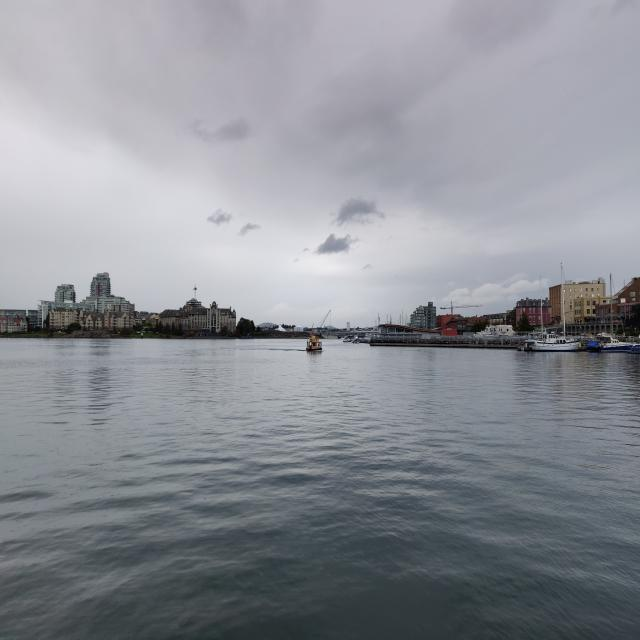aircraft: (332, 335, 372, 343)
boat: (530, 264, 581, 352), (586, 335, 637, 352), (306, 336, 322, 352)
